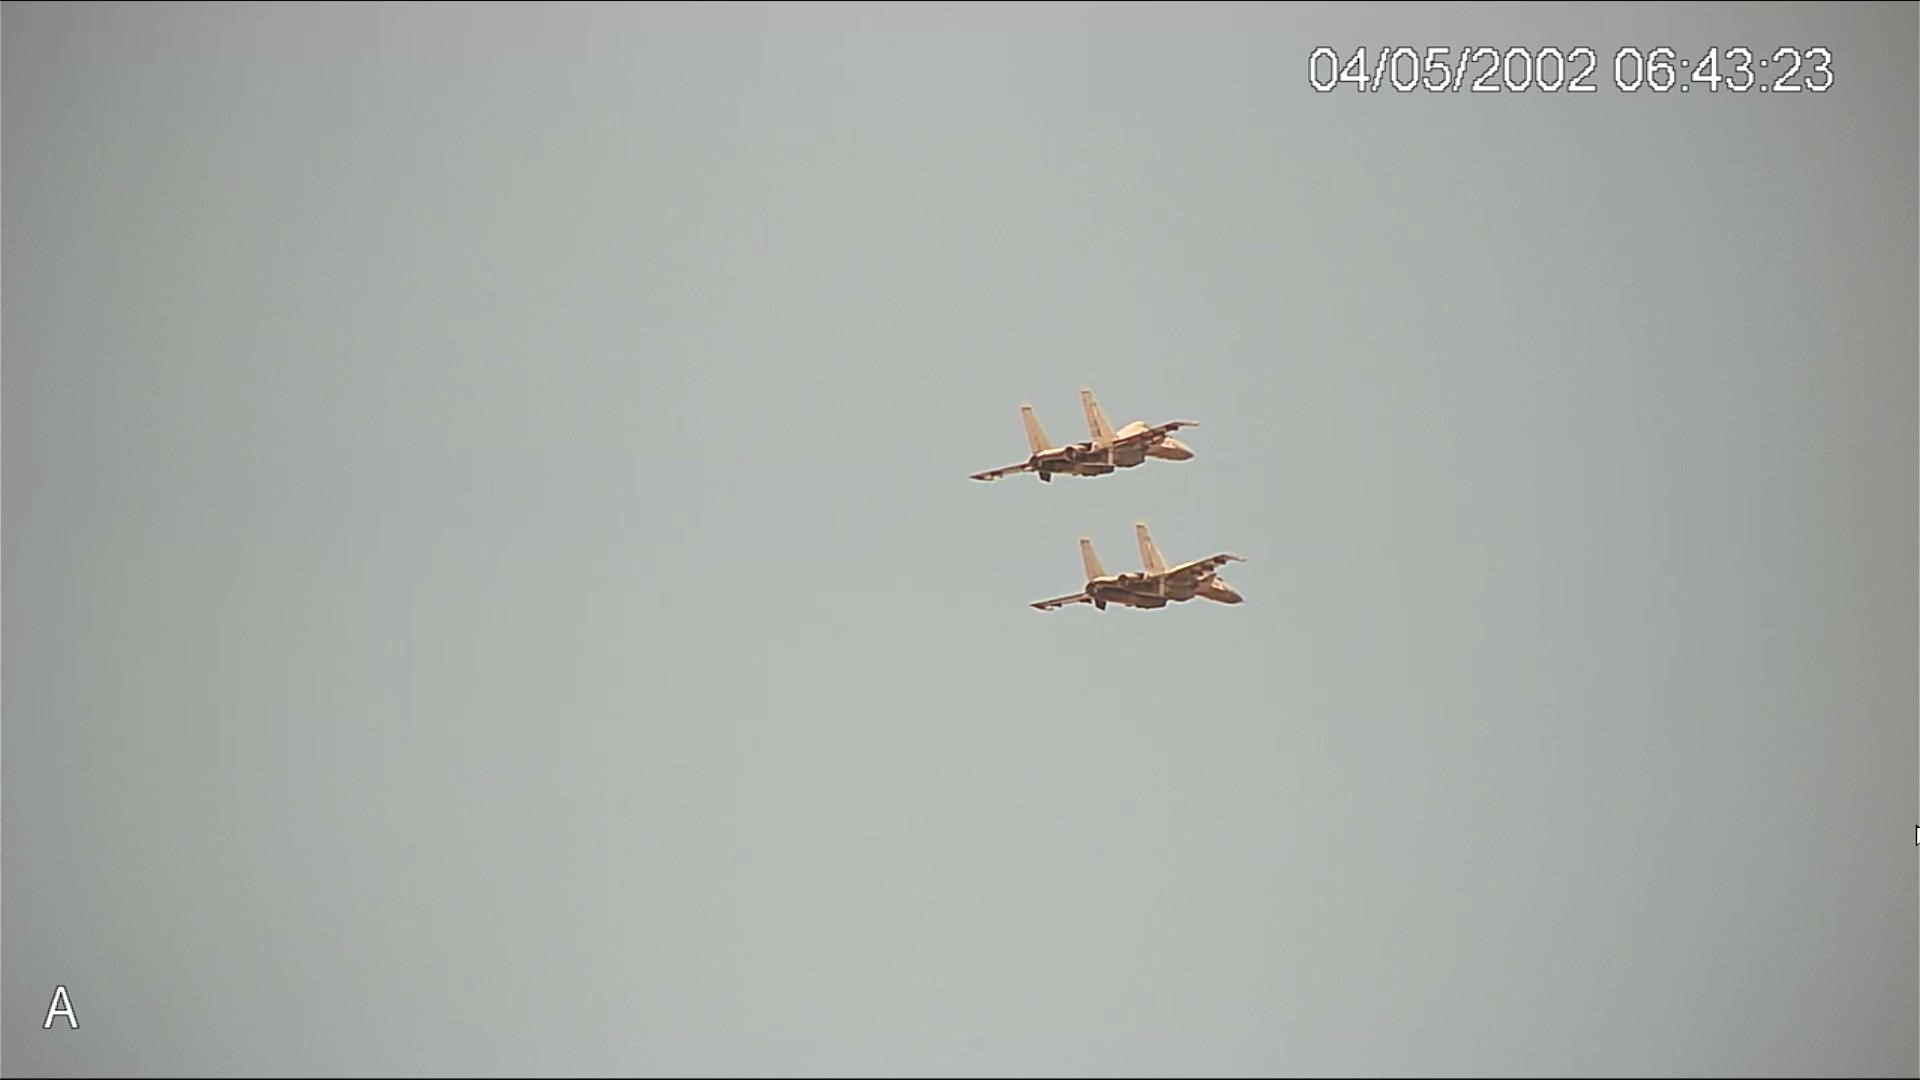SU_30: (1026, 518, 1251, 615), (975, 392, 1207, 479)
